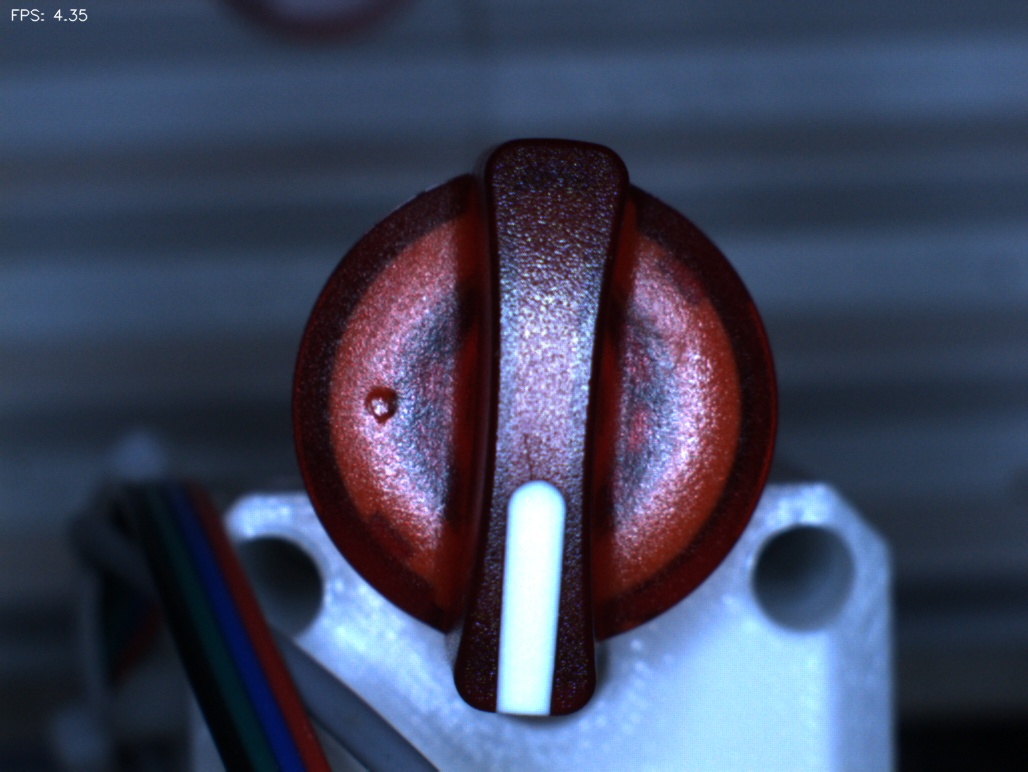Choc: (337, 357, 422, 442)
